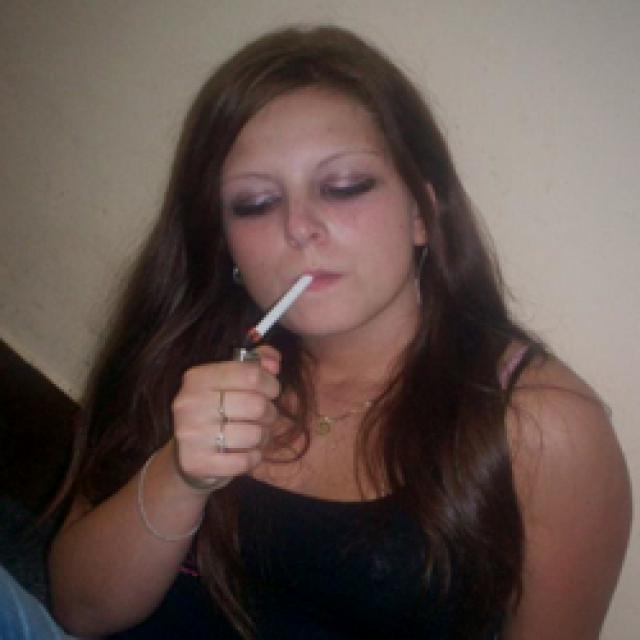Smooking: (245, 268, 322, 352)
